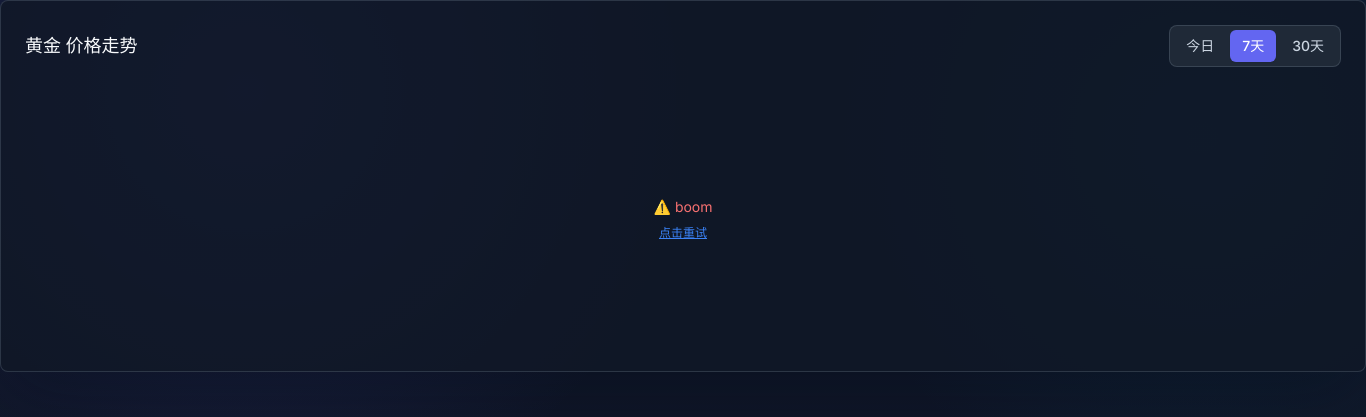
PriceTrendChart › shows error and retries
Expected: the text "⚠️ boom" is shown, left=654, top=196, right=712, bottom=216
Click the button "点击重试". click: x=683, y=232
box: left=659, top=224, right=707, bottom=240
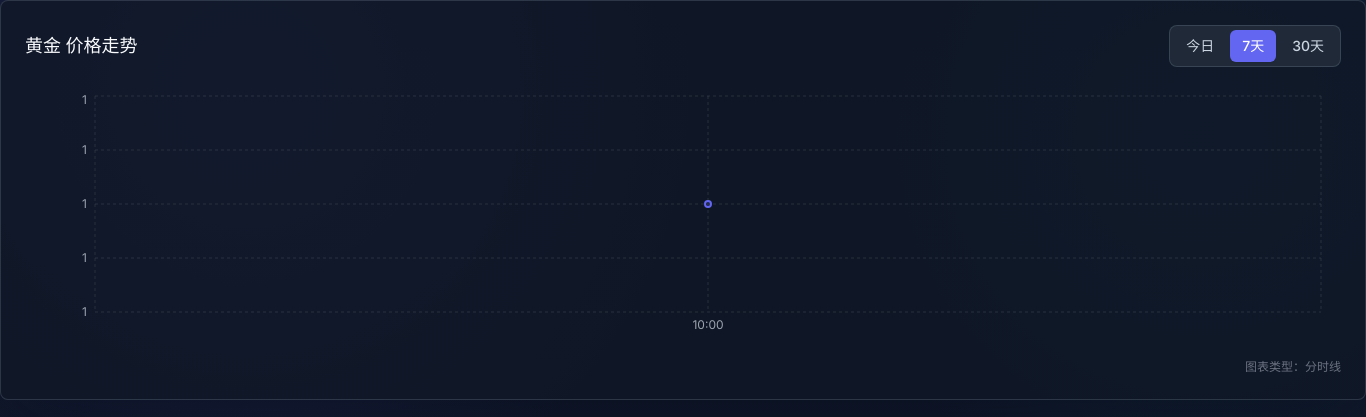
Now the text "图表类型：分时线" is shown, box left=1245, top=359, right=1341, bottom=374
